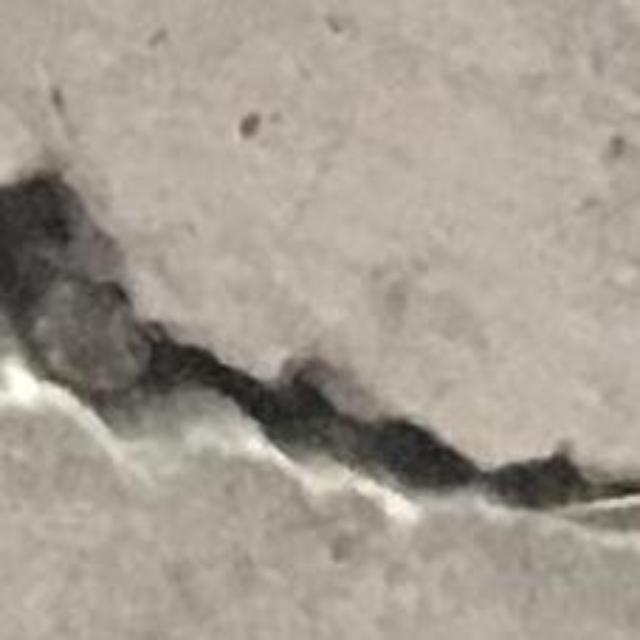crack: (0, 172, 639, 530)
